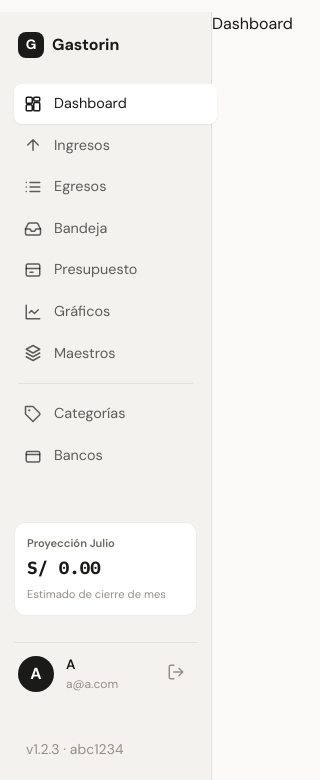
Test: AppShellLayout — versión y hash de commit en el sidebar (HU-9.1) › copia: al hacer click en el hash de commit, se copia el commit completo y aparece "Copiado"
Click the button with class "hash-commit": (75, 750) [26,739,124,760]
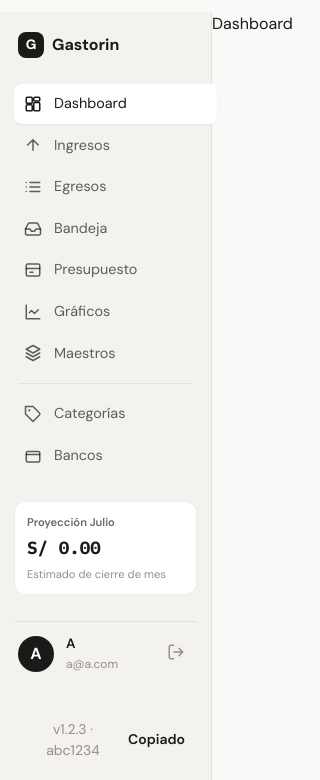
Result: the text "Copiado" is shown at [128,729,185,750]
